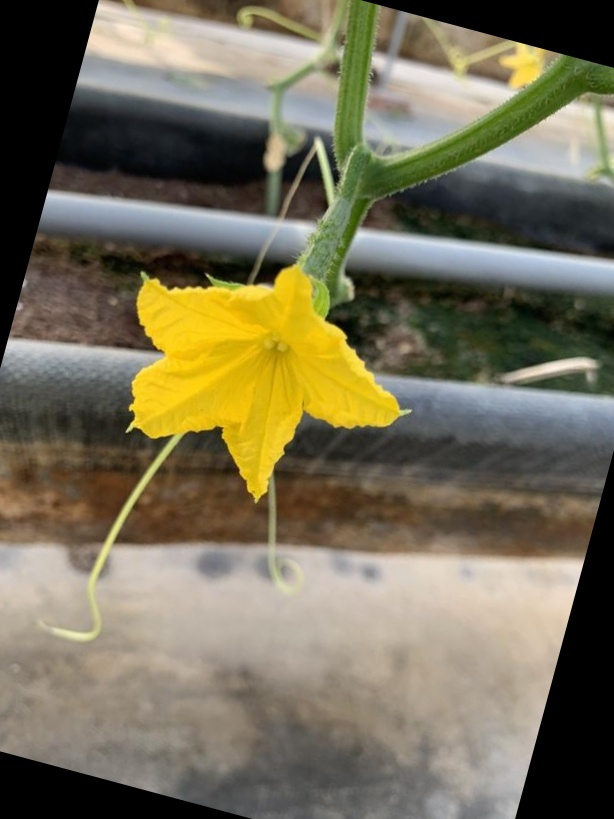flowering: (110, 170, 430, 500)
